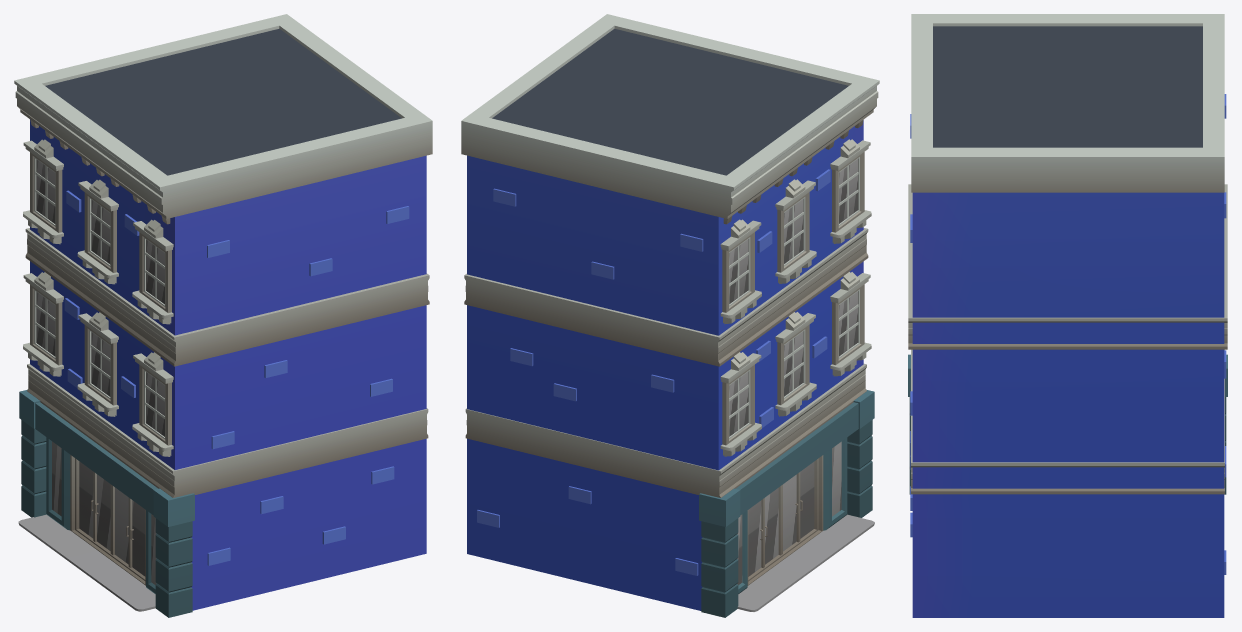
The model's file is Building_21_3_G.glb.
3 views of the same model, side by side, from view 1: azimuth 30°, elevation 25°; view 2: azimuth 150°, elevation 25°; view 3: azimuth 270°, elevation 25° (orthographic). The views are drawn at different scales.
Visible parts, largest first — view 1: Building_21_3_G; view 2: Building_21_3_G; view 3: Building_21_3_G.
Boxes of the visible parts, left/top/right/bottom form: Building_21_3_G: left=14, top=14, right=432, bottom=617; Building_21_3_G: left=461, top=14, right=879, bottom=617; Building_21_3_G: left=908, top=14, right=1227, bottom=617.
Size of the model in its own units: 7.79 by 11.41 by 7.13.
Materials: 3 (3 with a texture image).
